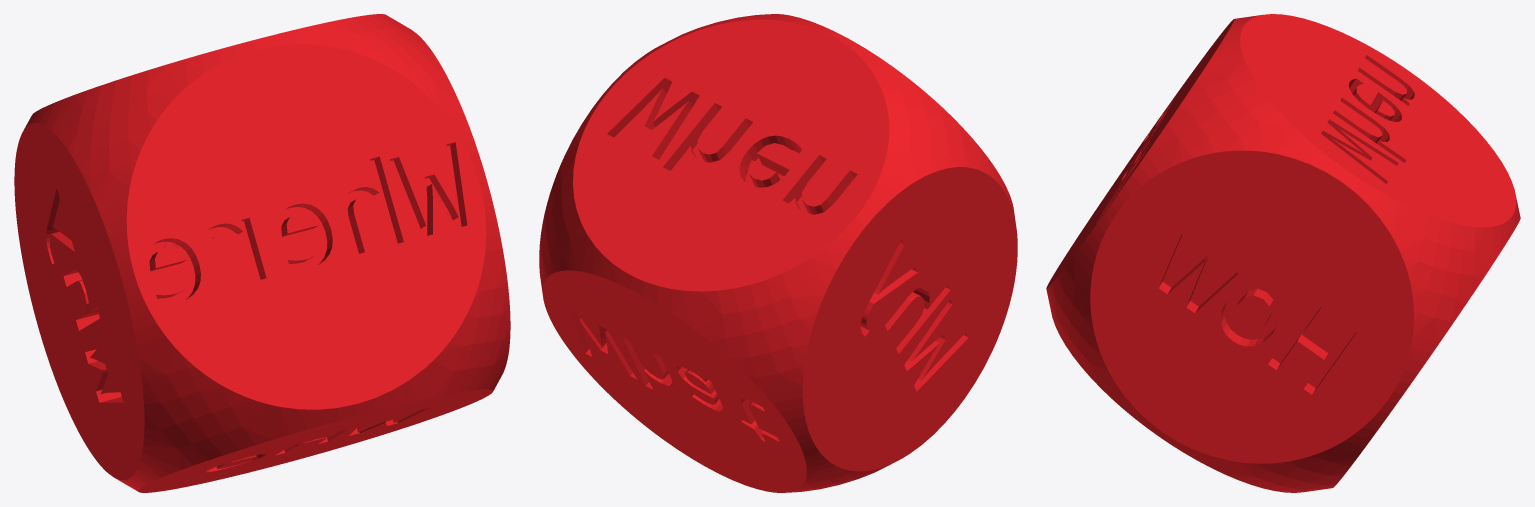
The model's file is Question_cube -red.glb.
3 renders of one model, left to right at view 1: azimuth 30°, elevation 25°; view 2: azimuth 150°, elevation 25°; view 3: azimuth 270°, elevation 25°, orthographic. The views are drawn at different scales.
Visible parts, largest first — view 1: node_id5; view 2: node_id5; view 3: node_id5.
Part boxes in pixels (left/top/right/bottom): node_id5: left=14, top=14, right=510, bottom=492; node_id5: left=539, top=14, right=1017, bottom=492; node_id5: left=1046, top=14, right=1520, bottom=492.
Bounding box in the file's own units: 0.6035 × 0.6922 × 0.6964.
1 material, 1 textured.
